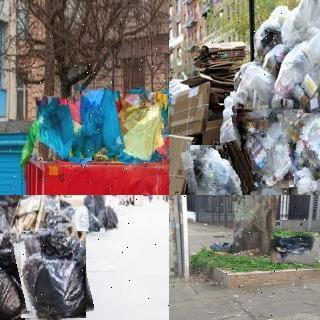Garbage: (16, 228, 90, 320), (234, 107, 301, 190), (269, 26, 320, 134), (35, 97, 94, 163), (115, 92, 169, 163), (185, 142, 254, 195), (71, 89, 123, 157), (285, 109, 320, 190), (229, 60, 276, 117), (279, 0, 320, 54), (0, 253, 28, 320), (270, 230, 319, 265), (96, 205, 117, 229), (83, 195, 104, 214)
